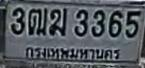3: (10, 7, 24, 34), (74, 8, 87, 36), (91, 9, 104, 36)
5: (125, 10, 140, 37)
6: (108, 10, 122, 36)
A06: (49, 8, 66, 35)
A18: (28, 7, 47, 35)
BKK: (23, 44, 123, 62)
